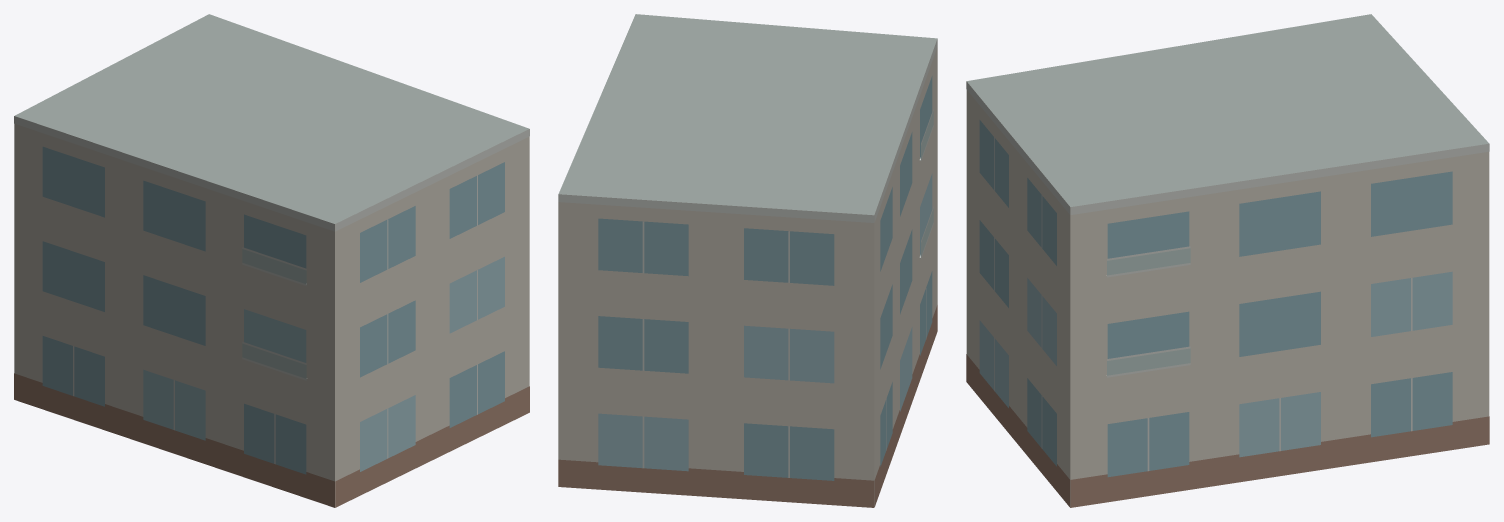
File: survey-upis-32940347.glb
3 renders of one model, left to right at view 1: azimuth 30°, elevation 25°; view 2: azimuth 150°, elevation 25°; view 3: azimuth 270°, elevation 25°, orthographic. The views are drawn at different scales.
Parts seen in each view (by area): view 1: survey-upis-32940347.tmp; view 2: survey-upis-32940347.tmp; view 3: survey-upis-32940347.tmp.
Boxes of the visible parts, box(x1,y1,x2,y2) form: survey-upis-32940347.tmp: box(14, 14, 529, 507); survey-upis-32940347.tmp: box(558, 14, 937, 507); survey-upis-32940347.tmp: box(966, 14, 1489, 507).
Size of the model in its own units: 12.62 by 9.15 by 14.43.
